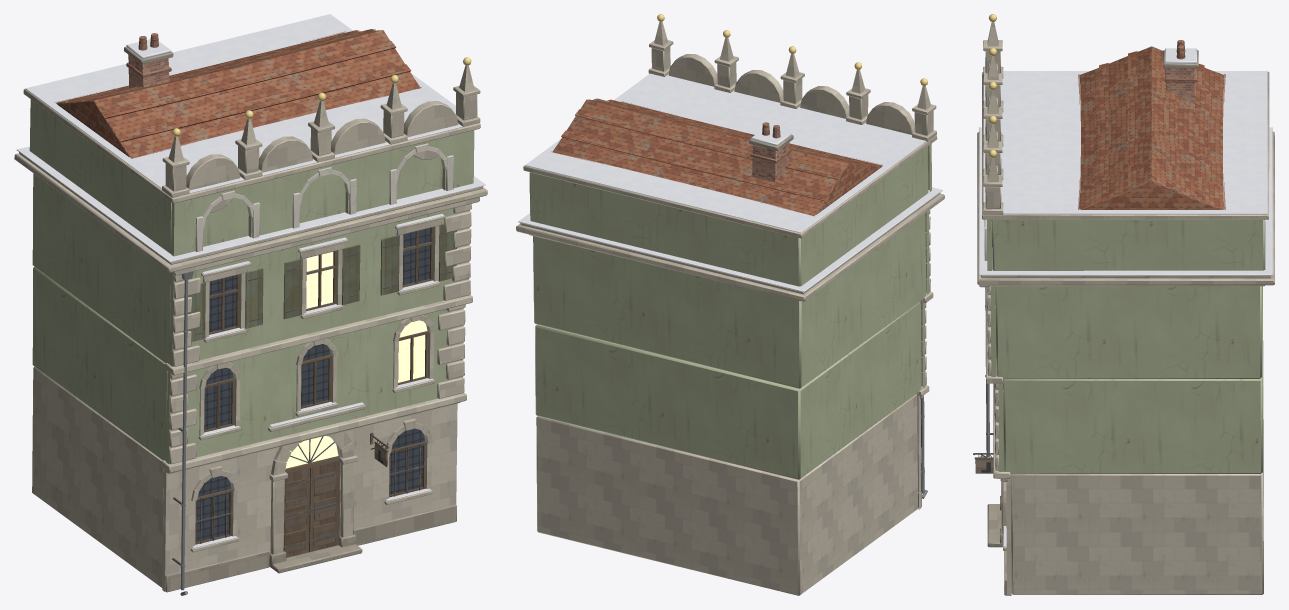
The model's file is tenement_d.glb.
3 renders of one model, left to right at view 1: azimuth 30°, elevation 25°; view 2: azimuth 150°, elevation 25°; view 3: azimuth 270°, elevation 25°, orthographic. The views are drawn at different scales.
Visible parts, largest first — view 1: tenement_d; view 2: tenement_d; view 3: tenement_d.
Part boxes in pixels (x1,y1,x2,y2): tenement_d: (14,14,487,595); tenement_d: (516,14,944,595); tenement_d: (973,14,1274,595).
Size of what is drawn, in the model's own units: 11 by 15.49 by 9.4.
Materials: 18 (16 with a texture image).
